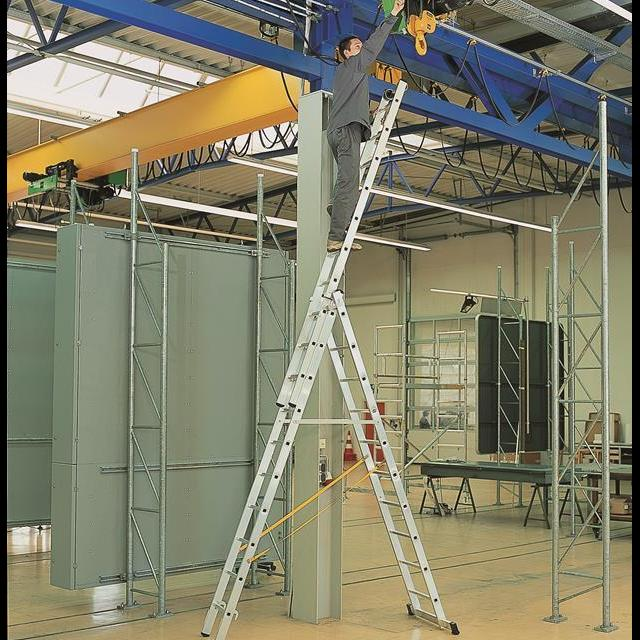Ladder: (199, 81, 460, 640)
NO-Hardhat: (339, 36, 359, 54)
NO-Safety Vest: (330, 56, 370, 131)
Person: (325, 0, 406, 252)
